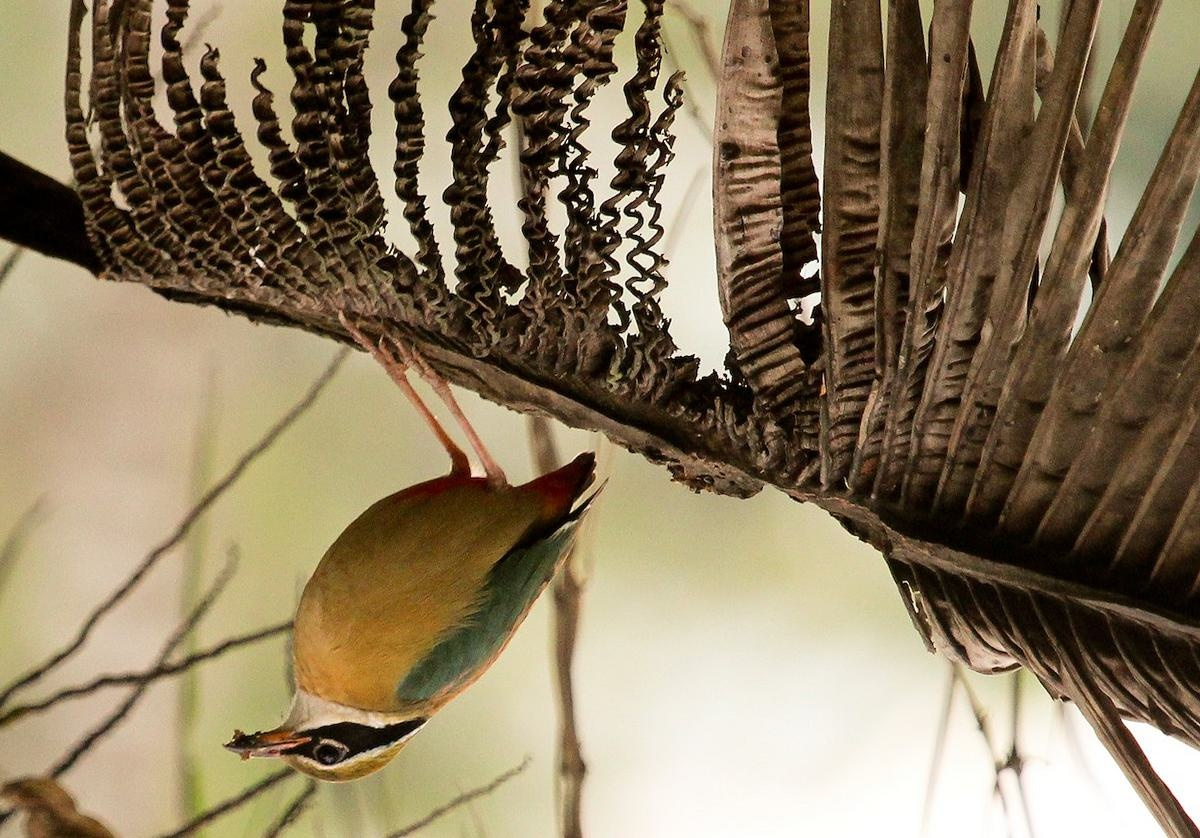pitta: (214, 324, 586, 789)
